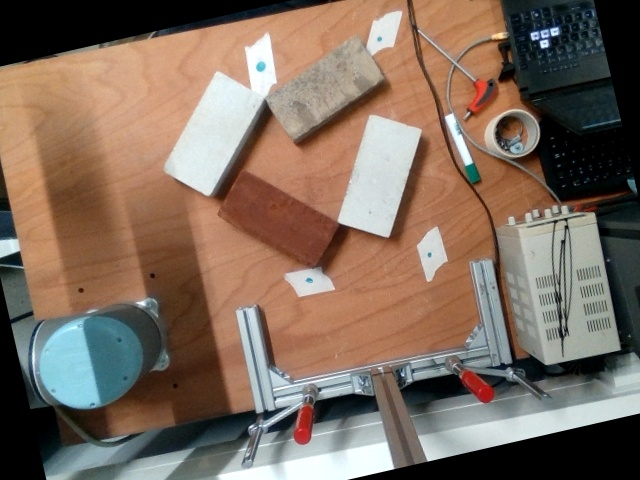brick: (263, 33, 386, 139), (162, 71, 264, 196), (221, 171, 337, 265), (337, 113, 421, 236)
